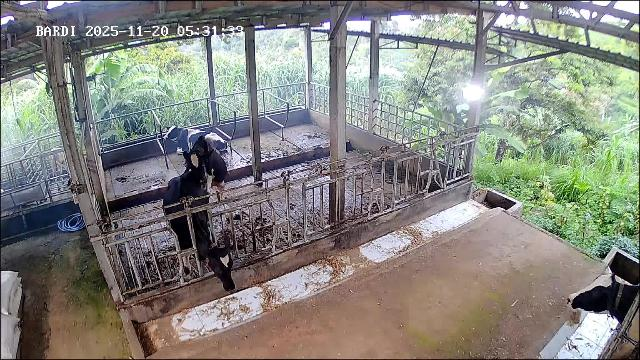mounting: (184, 135, 227, 205)
